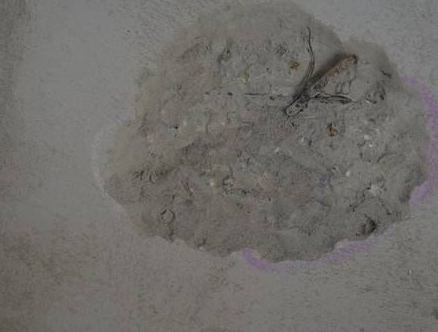Exposed reinforcement: (285, 55, 356, 117)
Spalling: (92, 1, 438, 264)
